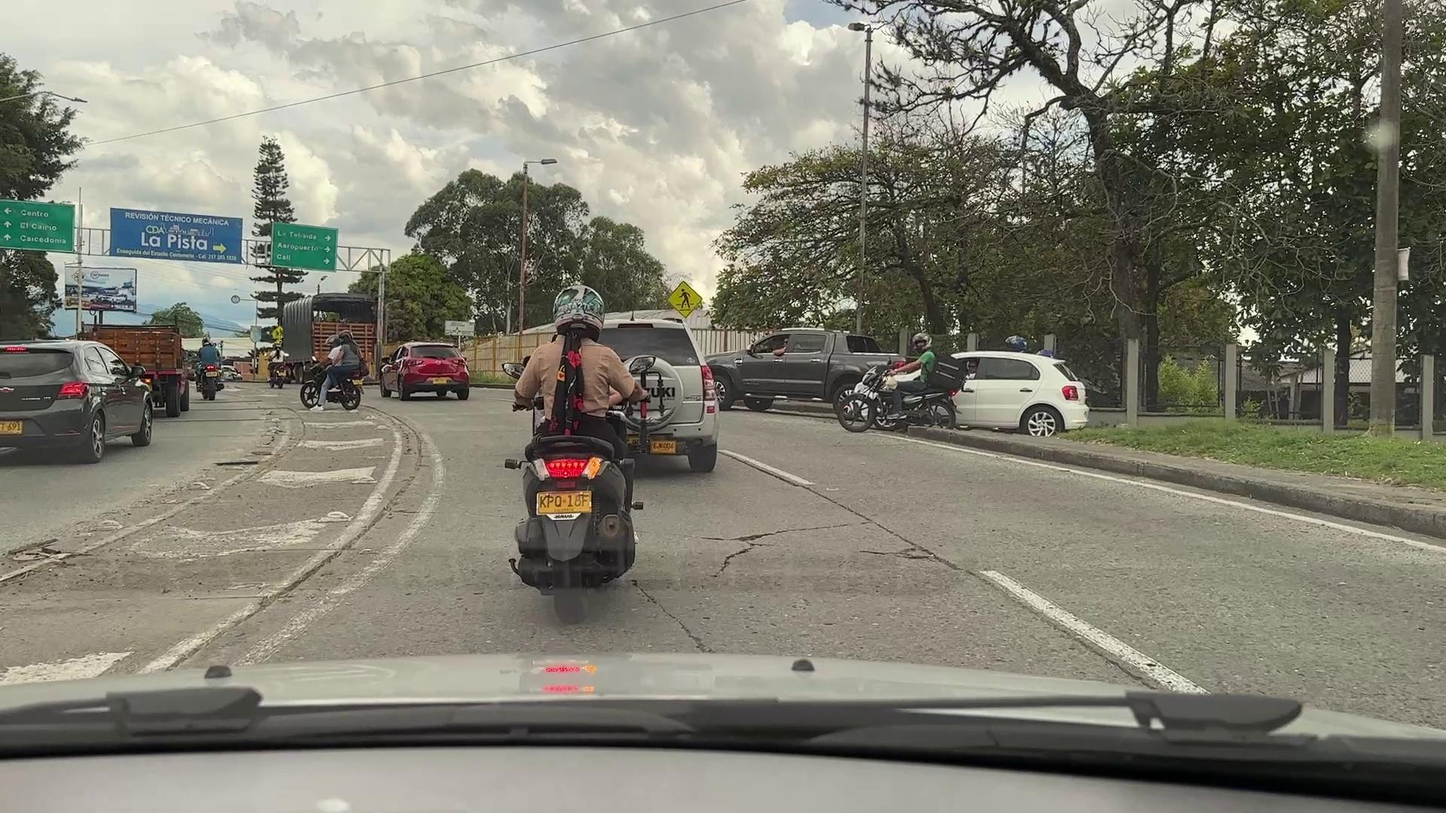bache: (889, 548, 946, 564)
grieta: (706, 534, 771, 576)
